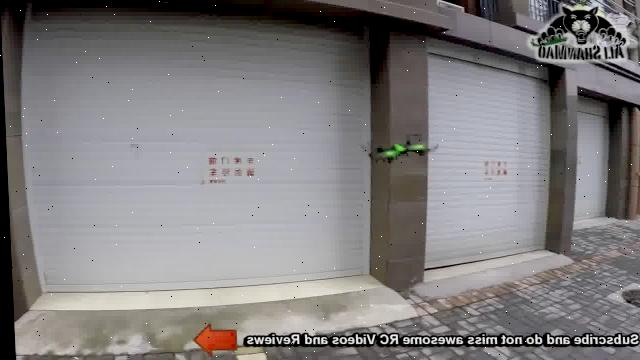drone: (347, 131, 443, 170)
